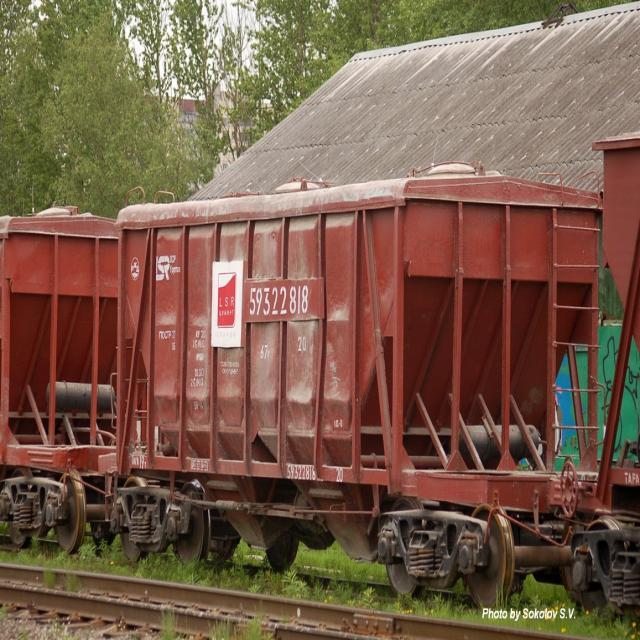wagon: (248, 284, 312, 318), (285, 458, 318, 488)
